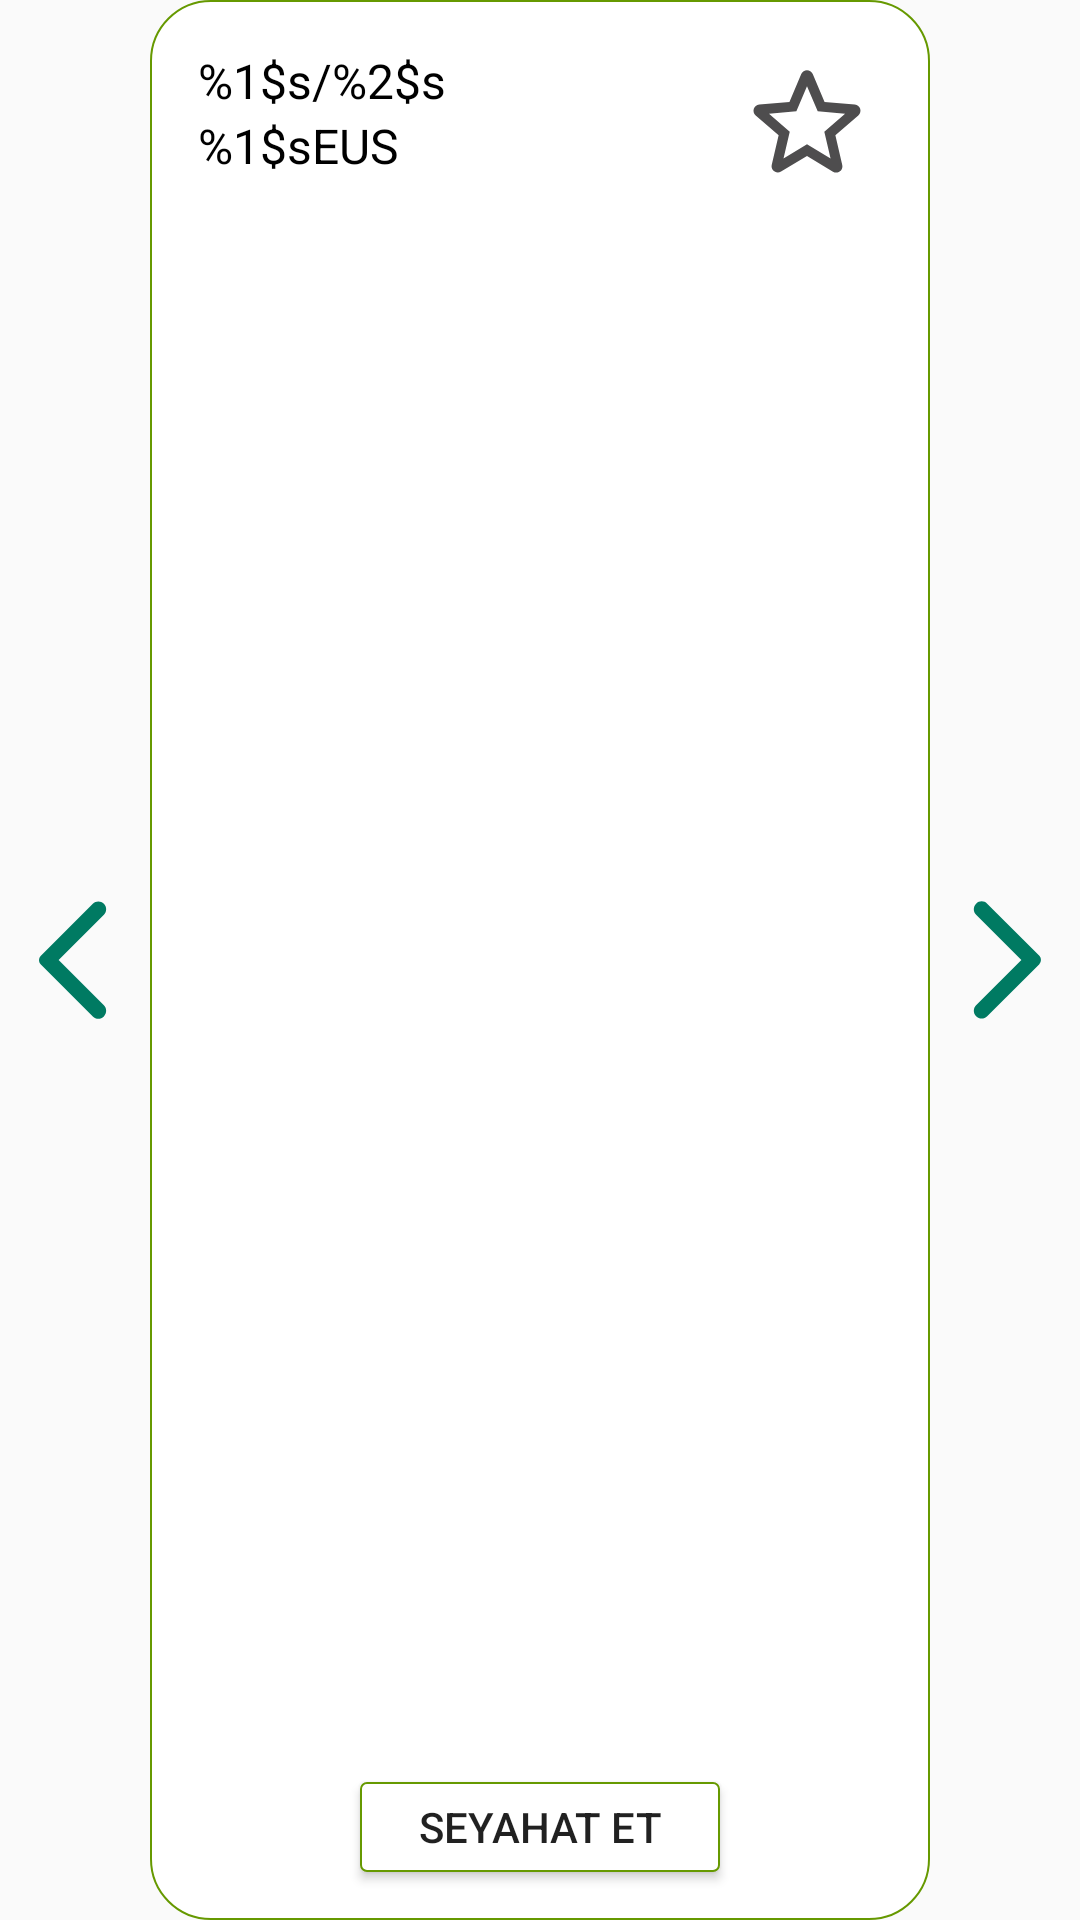

Named icons in this screenshot (1080x1920) and their centers, (x,y):
arrow back: (73,960)
arrow forward: (1007,960)
star: (807,121)
